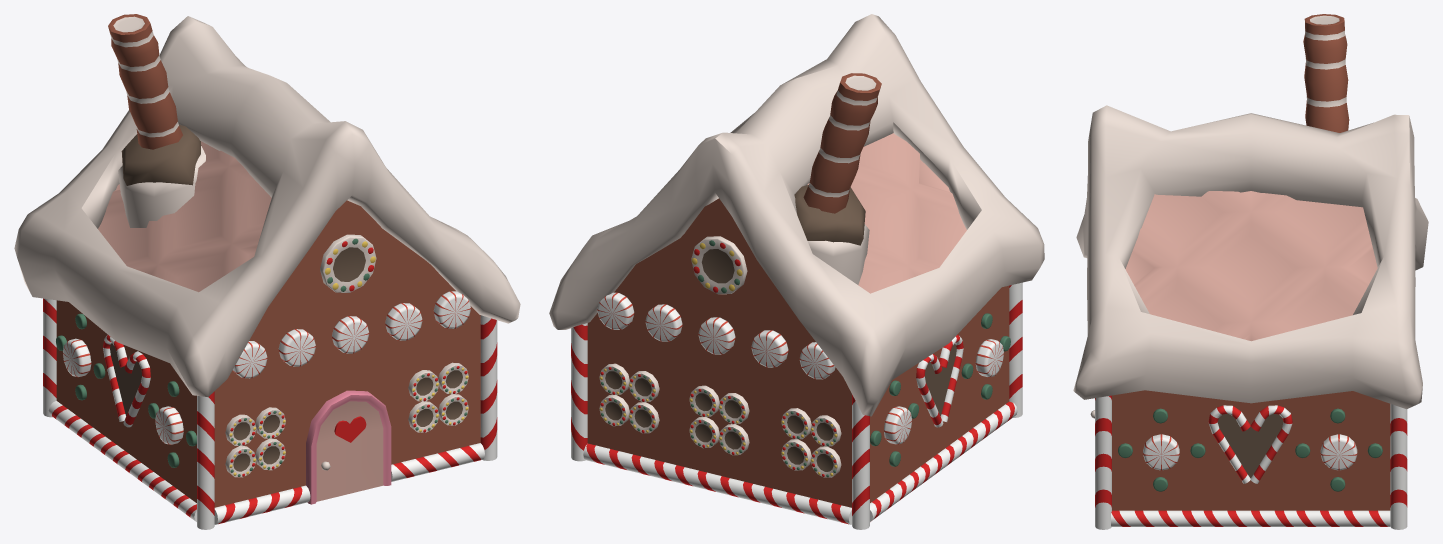
File: Gingerbread_house.glb
3 views of the same model, side by side, from view 1: azimuth 30°, elevation 25°; view 2: azimuth 150°, elevation 25°; view 3: azimuth 270°, elevation 25° (orthographic). The views are drawn at different scales.
Parts seen in each view (by area): view 1: Gingerbread_house; view 2: Gingerbread_house; view 3: Gingerbread_house.
Boxes of the visible parts, box(x1,y1,x2,y2) form: Gingerbread_house: box(14, 14, 520, 529); Gingerbread_house: box(549, 14, 1044, 529); Gingerbread_house: box(1073, 14, 1428, 529).
Bounding box in the file's own units: 2.35 × 2.76 × 2.26.
1 material, 1 textured.
